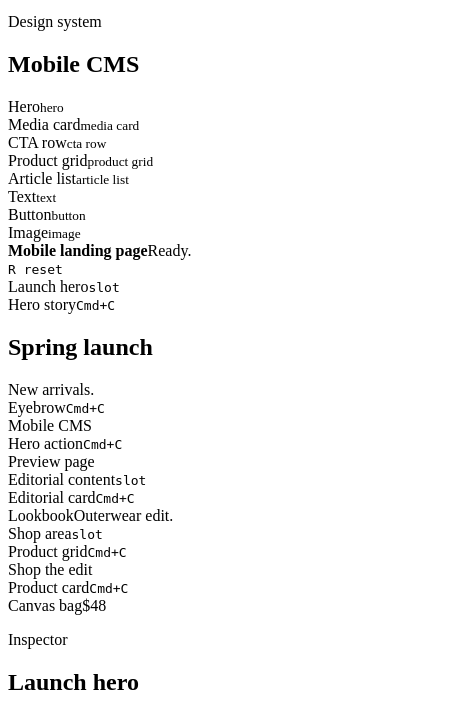
Test case: mobile CMS usable editing surface › copies a collection with keyboard shortcut and pastes it only into an allowed schema slot
The width and height of the screenshot is (468, 716).
Check: the heading "Mobile CMS" is shown, box [8, 51, 139, 77]
Click the element with class "block-productGrid" at point(68, 578), box [8, 543, 128, 614]
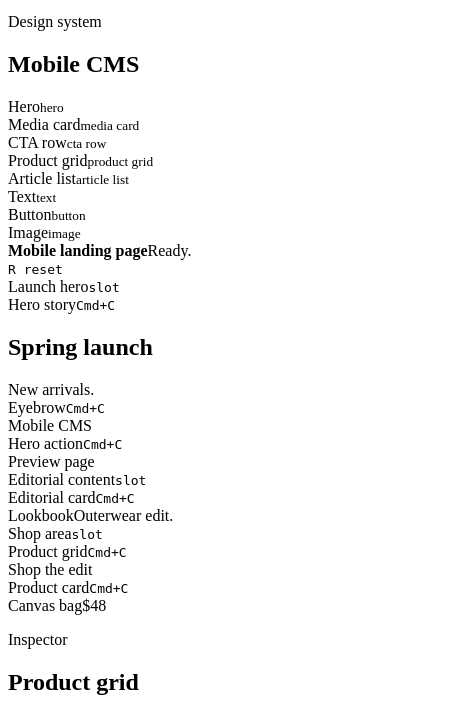
Type keys "{Control>}c{/Control}"
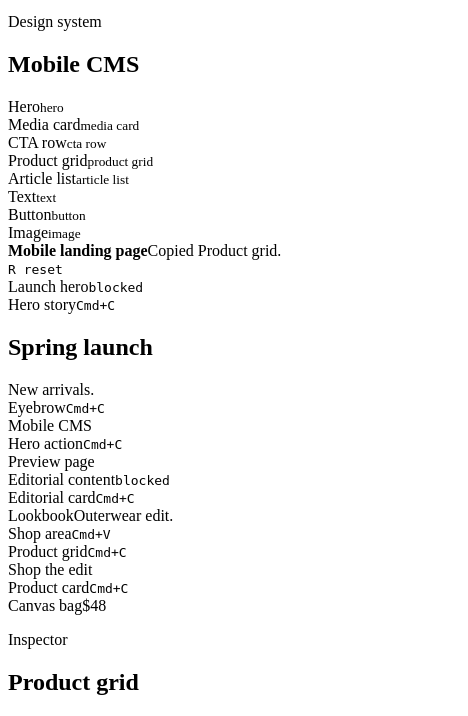
Check: the text "Copied Product grid." is shown, box [148, 242, 281, 259]
Click the text "Editorial content" at point(62, 479), box [8, 471, 115, 488]
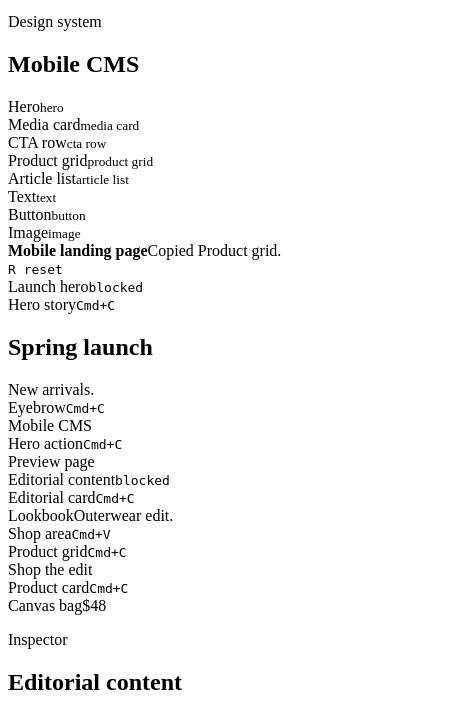
Type keys "{Control>}v{/Control}"
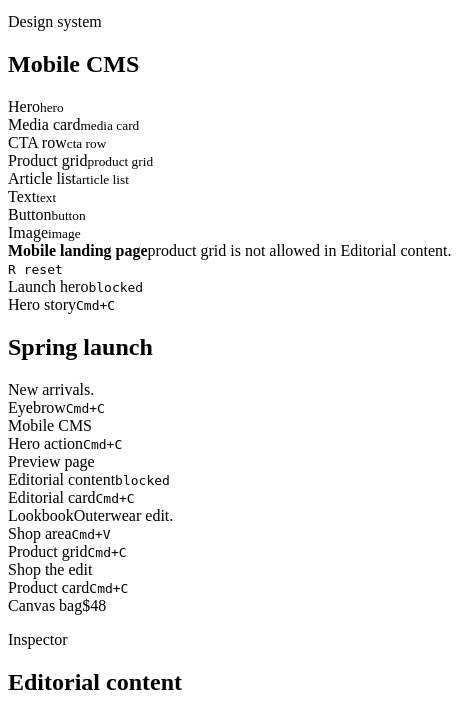
Check: the number of elements with class "block-productGrid" is 1, box [8, 543, 128, 614]
Check: the text "product grid is not allowed in Editorial content." is shown, box [148, 242, 452, 259]
Click the text "Shop area" at point(40, 533), box [8, 525, 72, 542]
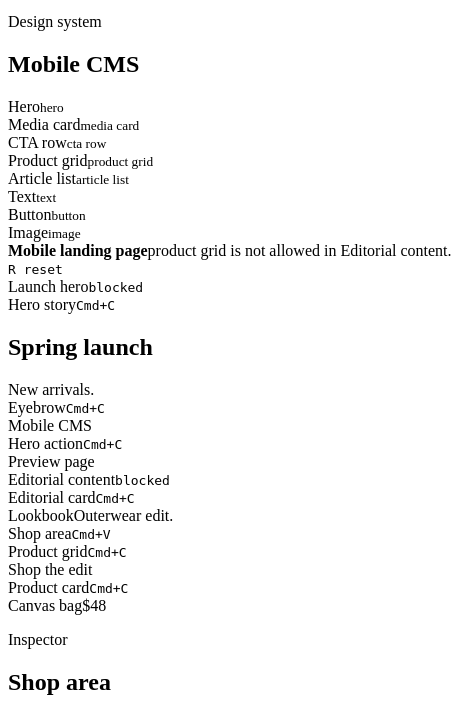
Type keys "{Control>}v{/Control}"
(page scrolled)
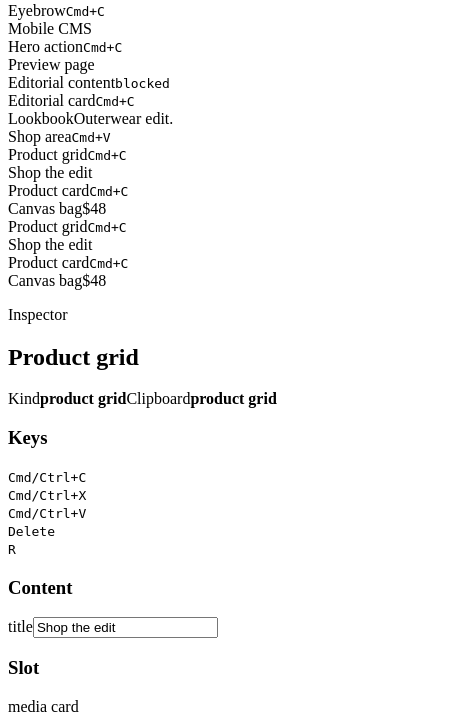
Check: the number of elements with class "block-productGrid" is 2, box [8, 146, 128, 217]; [8, 218, 128, 289]
Check: the heading "Product grid" is shown, box [8, 344, 139, 370]
